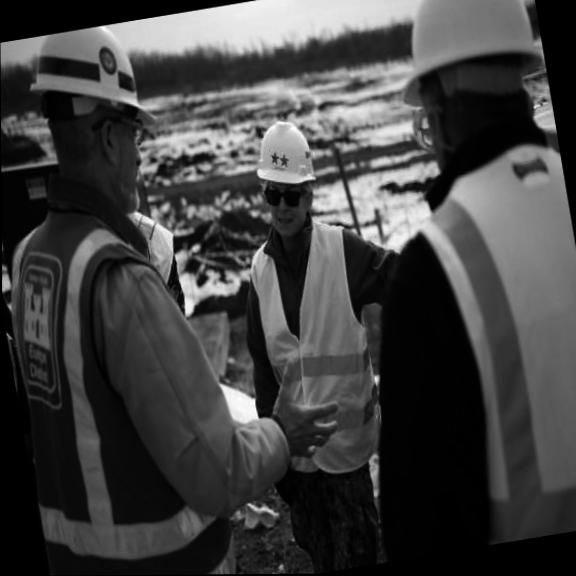safety_vest: (1, 195, 243, 576), (390, 143, 576, 543), (232, 211, 387, 497)
